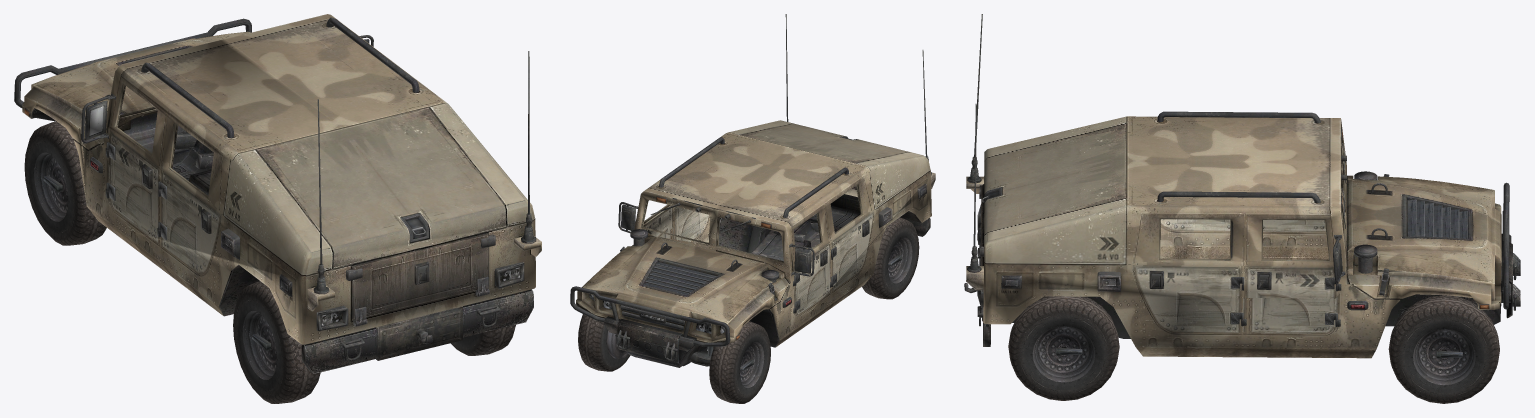
File: v_jeep.glb
3 views of the same model, side by side, from view 1: azimuth 30°, elevation 25°; view 2: azimuth 150°, elevation 25°; view 3: azimuth 270°, elevation 25° (orthographic). The views are drawn at different scales.
Visible parts, largest first — view 1: Body; view 2: Body; view 3: Body.
Boxes of the visible parts, x1,y1,x2,y2 form: Body: (14,14,541,403); Body: (570,14,935,403); Body: (964,14,1520,403).
Bounding box in the file's own units: 2.36 × 2.58 × 4.4.
Materials: 2 (2 with a texture image).
